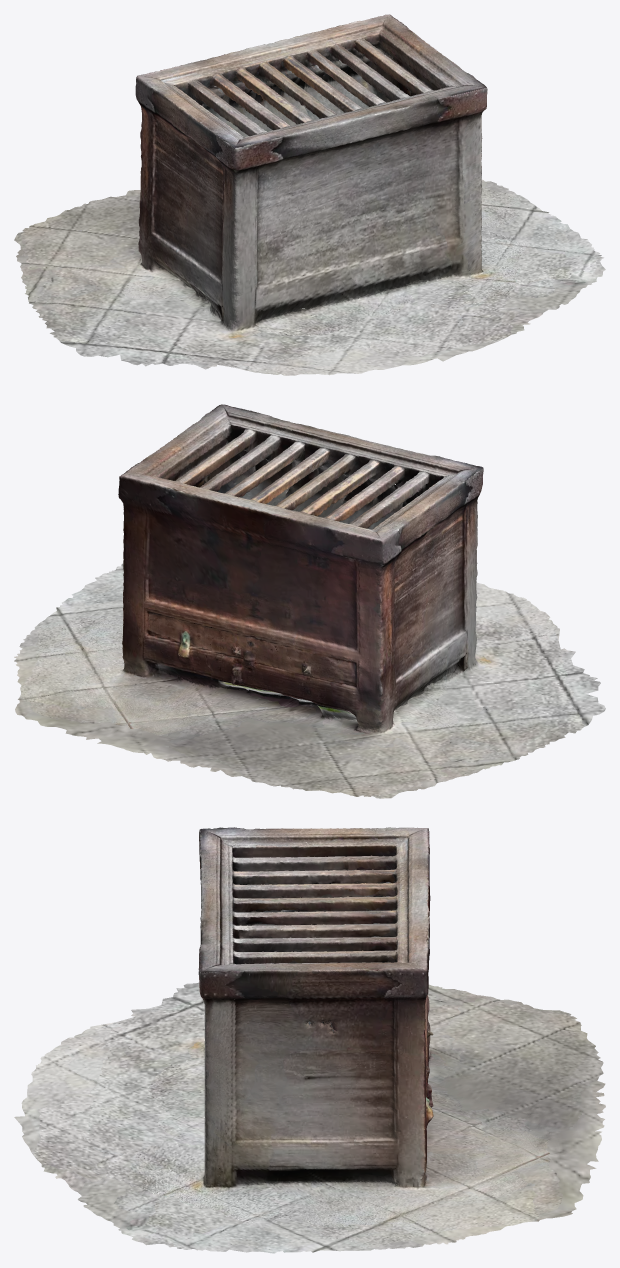
The model's file is saisen-bako.glb.
The picture shows the model from 3 angles, top to bottom: view 1: azimuth 30°, elevation 25°; view 2: azimuth 150°, elevation 25°; view 3: azimuth 270°, elevation 25°; orthographic projection. The views are drawn at different scales.
Visible parts, largest first — view 1: mesh; view 2: mesh; view 3: mesh.
Part boxes in pixels (bbox=[...]): mesh: bbox=[14, 14, 605, 375]; mesh: bbox=[14, 404, 605, 798]; mesh: bbox=[14, 827, 605, 1253].
Bounding box in the file's own units: 1.86 × 0.6859 × 1.63.
1 material, 1 textured.
